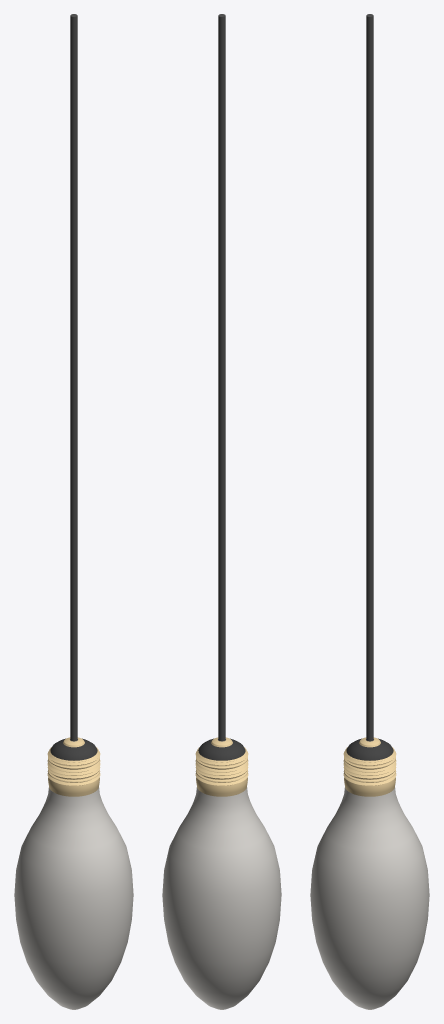
Rendered from bombilla.glb.
3 views of the same model, side by side, from view 1: azimuth 90°, elevation 25°; view 2: azimuth 210°, elevation 25°; view 3: azimuth 270°, elevation 25° (orthographic).
Parts seen in each view (by area): view 1: GlassBulb, Cable, CapMetal, Insulator; view 2: GlassBulb, Cable, CapMetal, Insulator; view 3: GlassBulb, Cable, CapMetal, Insulator.
Part boxes in pixels (bbox=[...]): GlassBulb: bbox=[14, 787, 133, 1009]; Cable: bbox=[70, 14, 77, 740]; CapMetal: bbox=[47, 747, 100, 796]; Insulator: bbox=[50, 738, 97, 760]; GlassBulb: bbox=[162, 787, 281, 1009]; Cable: bbox=[218, 14, 225, 740]; CapMetal: bbox=[195, 747, 248, 796]; Insulator: bbox=[198, 738, 245, 760]; GlassBulb: bbox=[310, 787, 429, 1009]; Cable: bbox=[366, 14, 373, 740]; CapMetal: bbox=[343, 747, 396, 796]; Insulator: bbox=[346, 738, 393, 760].
Bounding box in the file's own units: 0.0596 × 0.548 × 0.0596.
